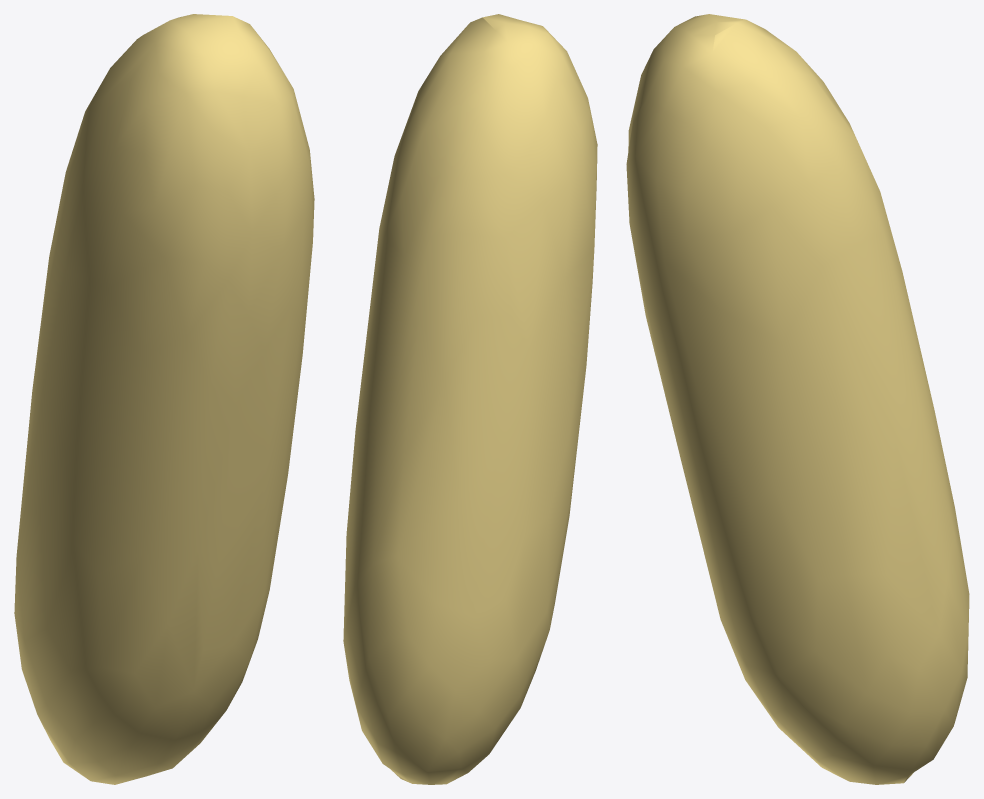
Rendered from fma72465_mm2700.glb.
3 views of the same model, side by side, from view 1: azimuth 30°, elevation 25°; view 2: azimuth 150°, elevation 25°; view 3: azimuth 270°, elevation 25° (orthographic). The views are drawn at different scales.
Parts seen in each view (by area): view 1: FMA72465_MM2700; view 2: FMA72465_MM2700; view 3: FMA72465_MM2700.
Part boxes in pixels (x1,y1,x2,y2): FMA72465_MM2700: (14,14,314,784); FMA72465_MM2700: (343,14,597,784); FMA72465_MM2700: (626,14,969,784).
Bounding box in the file's own units: 0.00248 × 0.00903 × 0.00371.
